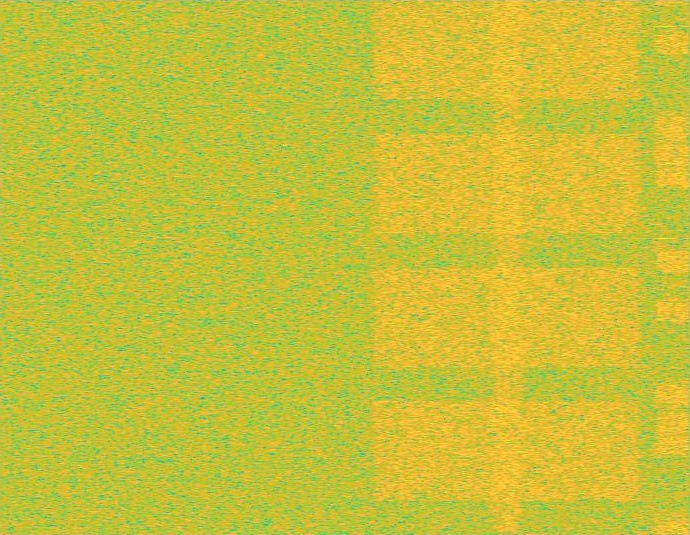5G: (369, 0, 645, 534)
DSSS: (489, 0, 526, 534)
LTE: (655, 0, 689, 534)
Radar: (659, 0, 673, 534)
